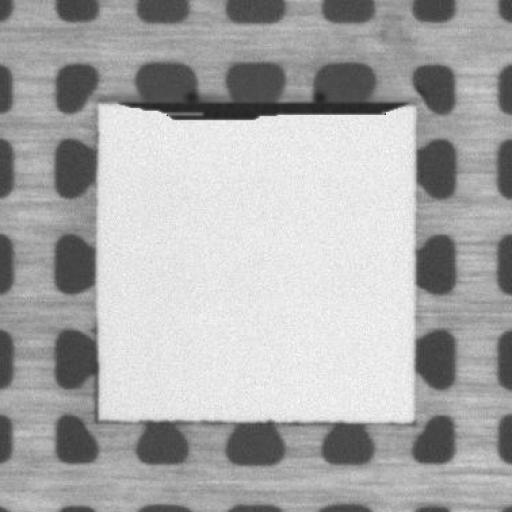DIE_BROKEN: (114, 96, 409, 119)
